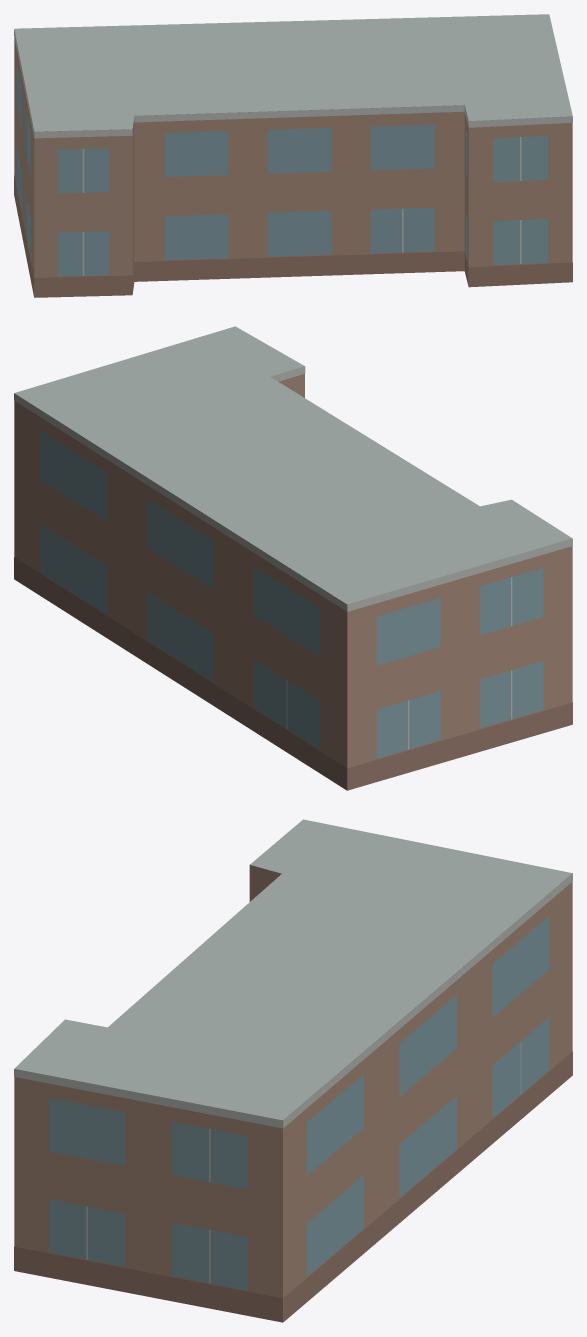
The model's file is survey-upis-32679470.glb.
3 views of the same model, one above another, from view 1: azimuth 30°, elevation 25°; view 2: azimuth 150°, elevation 25°; view 3: azimuth 270°, elevation 25° (orthographic). The views are drawn at different scales.
Parts seen in each view (by area): view 1: survey-upis-32679470.tmp; view 2: survey-upis-32679470.tmp; view 3: survey-upis-32679470.tmp.
Boxes of the visible parts, <box> form: survey-upis-32679470.tmp: <box>14,14,572,297</box>; survey-upis-32679470.tmp: <box>14,326,572,790</box>; survey-upis-32679470.tmp: <box>14,819,572,1322</box>.
Size of the model in its own units: 19.5 by 6.1 by 15.29.
